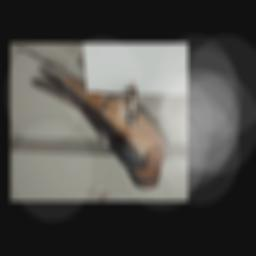Swallow: (14, 50, 165, 190)
